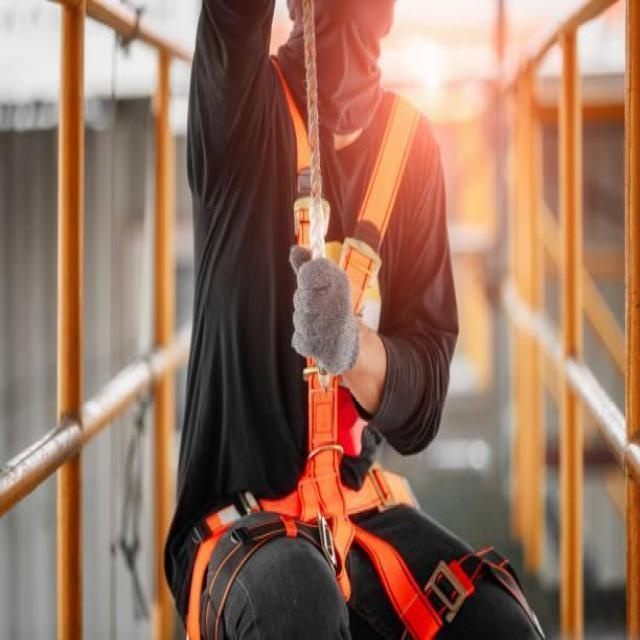Arnes_seguridad: (166, 48, 530, 640)
